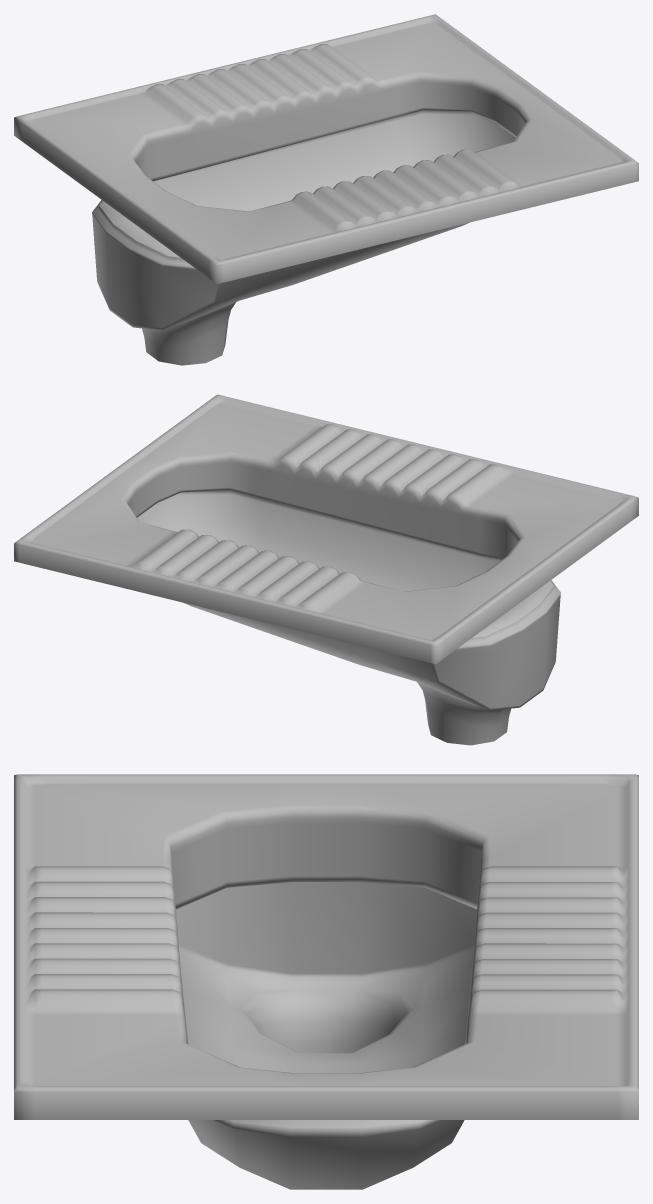
File: toilet_1.glb
3 renders of one model, top to bottom at view 1: azimuth 30°, elevation 25°; view 2: azimuth 150°, elevation 25°; view 3: azimuth 270°, elevation 25°, orthographic. The views are drawn at different scales.
Visible parts, largest first — view 1: Toilet.001; view 2: Toilet.001; view 3: Toilet.001.
Part boxes in pixels (x1,y1,x2,y2): Toilet.001: (14, 14, 638, 365); Toilet.001: (14, 394, 638, 745); Toilet.001: (14, 774, 638, 1189).
Bounding box in the file's own units: 0.6 × 0.2436 × 0.5.
1 material, 1 textured.
